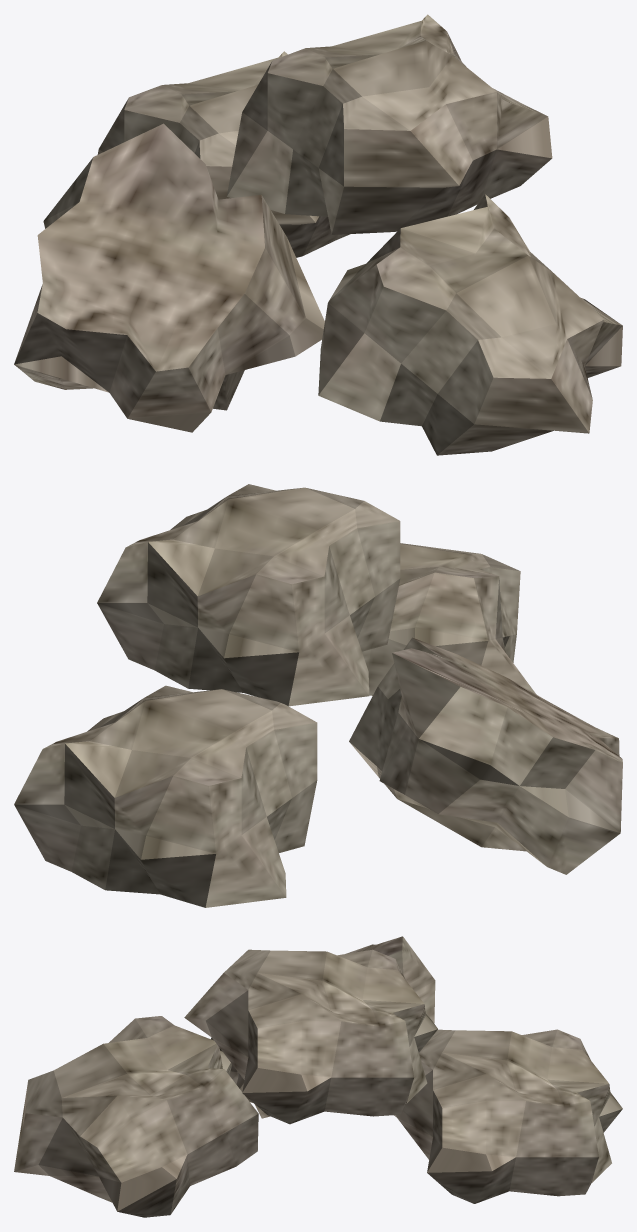
Rendered from bearden.glb.
The picture shows the model from 3 angles, top to bottom: view 1: azimuth 30°, elevation 25°; view 2: azimuth 150°, elevation 25°; view 3: azimuth 270°, elevation 25°; orthographic projection. The views are drawn at different scales.
Parts seen in each view (by area): view 1: Cube, Cube.002, Cube.003, Cube.001; view 2: Cube.001, Cube.003, Cube, Cube.002; view 3: Cube.002, Cube.003, Cube.001, Cube.
Part boxes in pixels (x1,y1,x2,y2): Cube: [14, 123, 324, 432]; Cube.002: [318, 194, 622, 455]; Cube.003: [226, 14, 552, 234]; Cube.001: [97, 51, 350, 257]; Cube.001: [14, 685, 317, 907]; Cube.003: [97, 484, 400, 706]; Cube: [349, 637, 622, 874]; Cube.002: [362, 543, 536, 695]; Cube.002: [14, 1016, 258, 1217]; Cube.003: [184, 949, 437, 1124]; Cube.001: [394, 1029, 622, 1203]; Cube: [211, 936, 435, 1118].
Bounding box in the file's own units: 0.9307 × 0.5035 × 1.2.
Materials: 4 (4 with a texture image).
